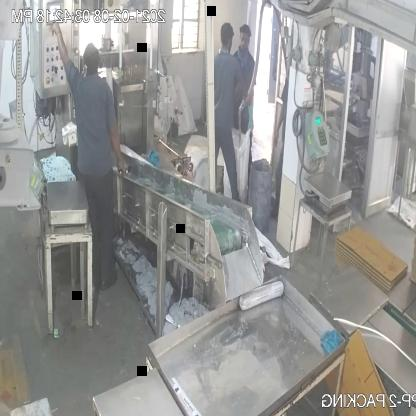no_glove: (104, 114, 130, 181), (49, 13, 75, 74)
